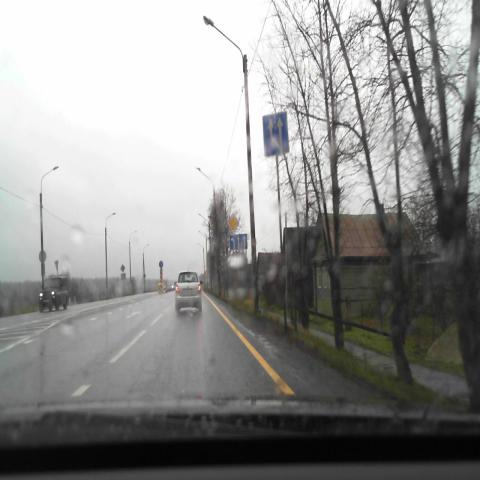5_15_3: (263, 111, 289, 157)
